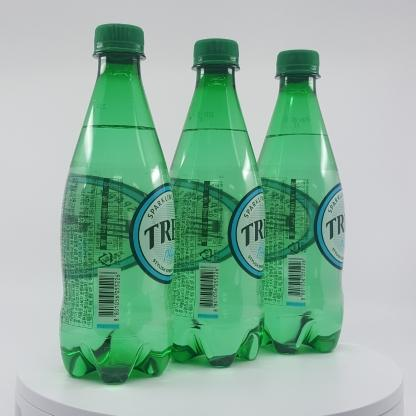---------PET-500ML: (58, 23, 176, 384), (167, 38, 266, 367), (255, 49, 346, 355)
